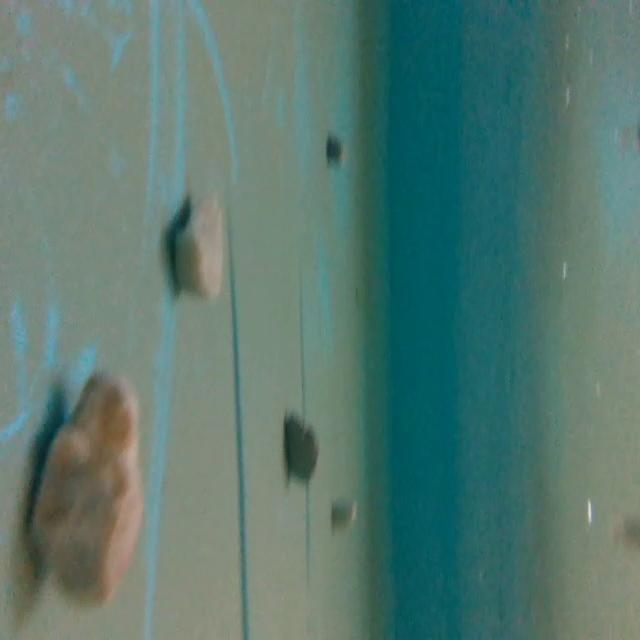rock: (22, 364, 150, 620), (170, 180, 228, 308)
